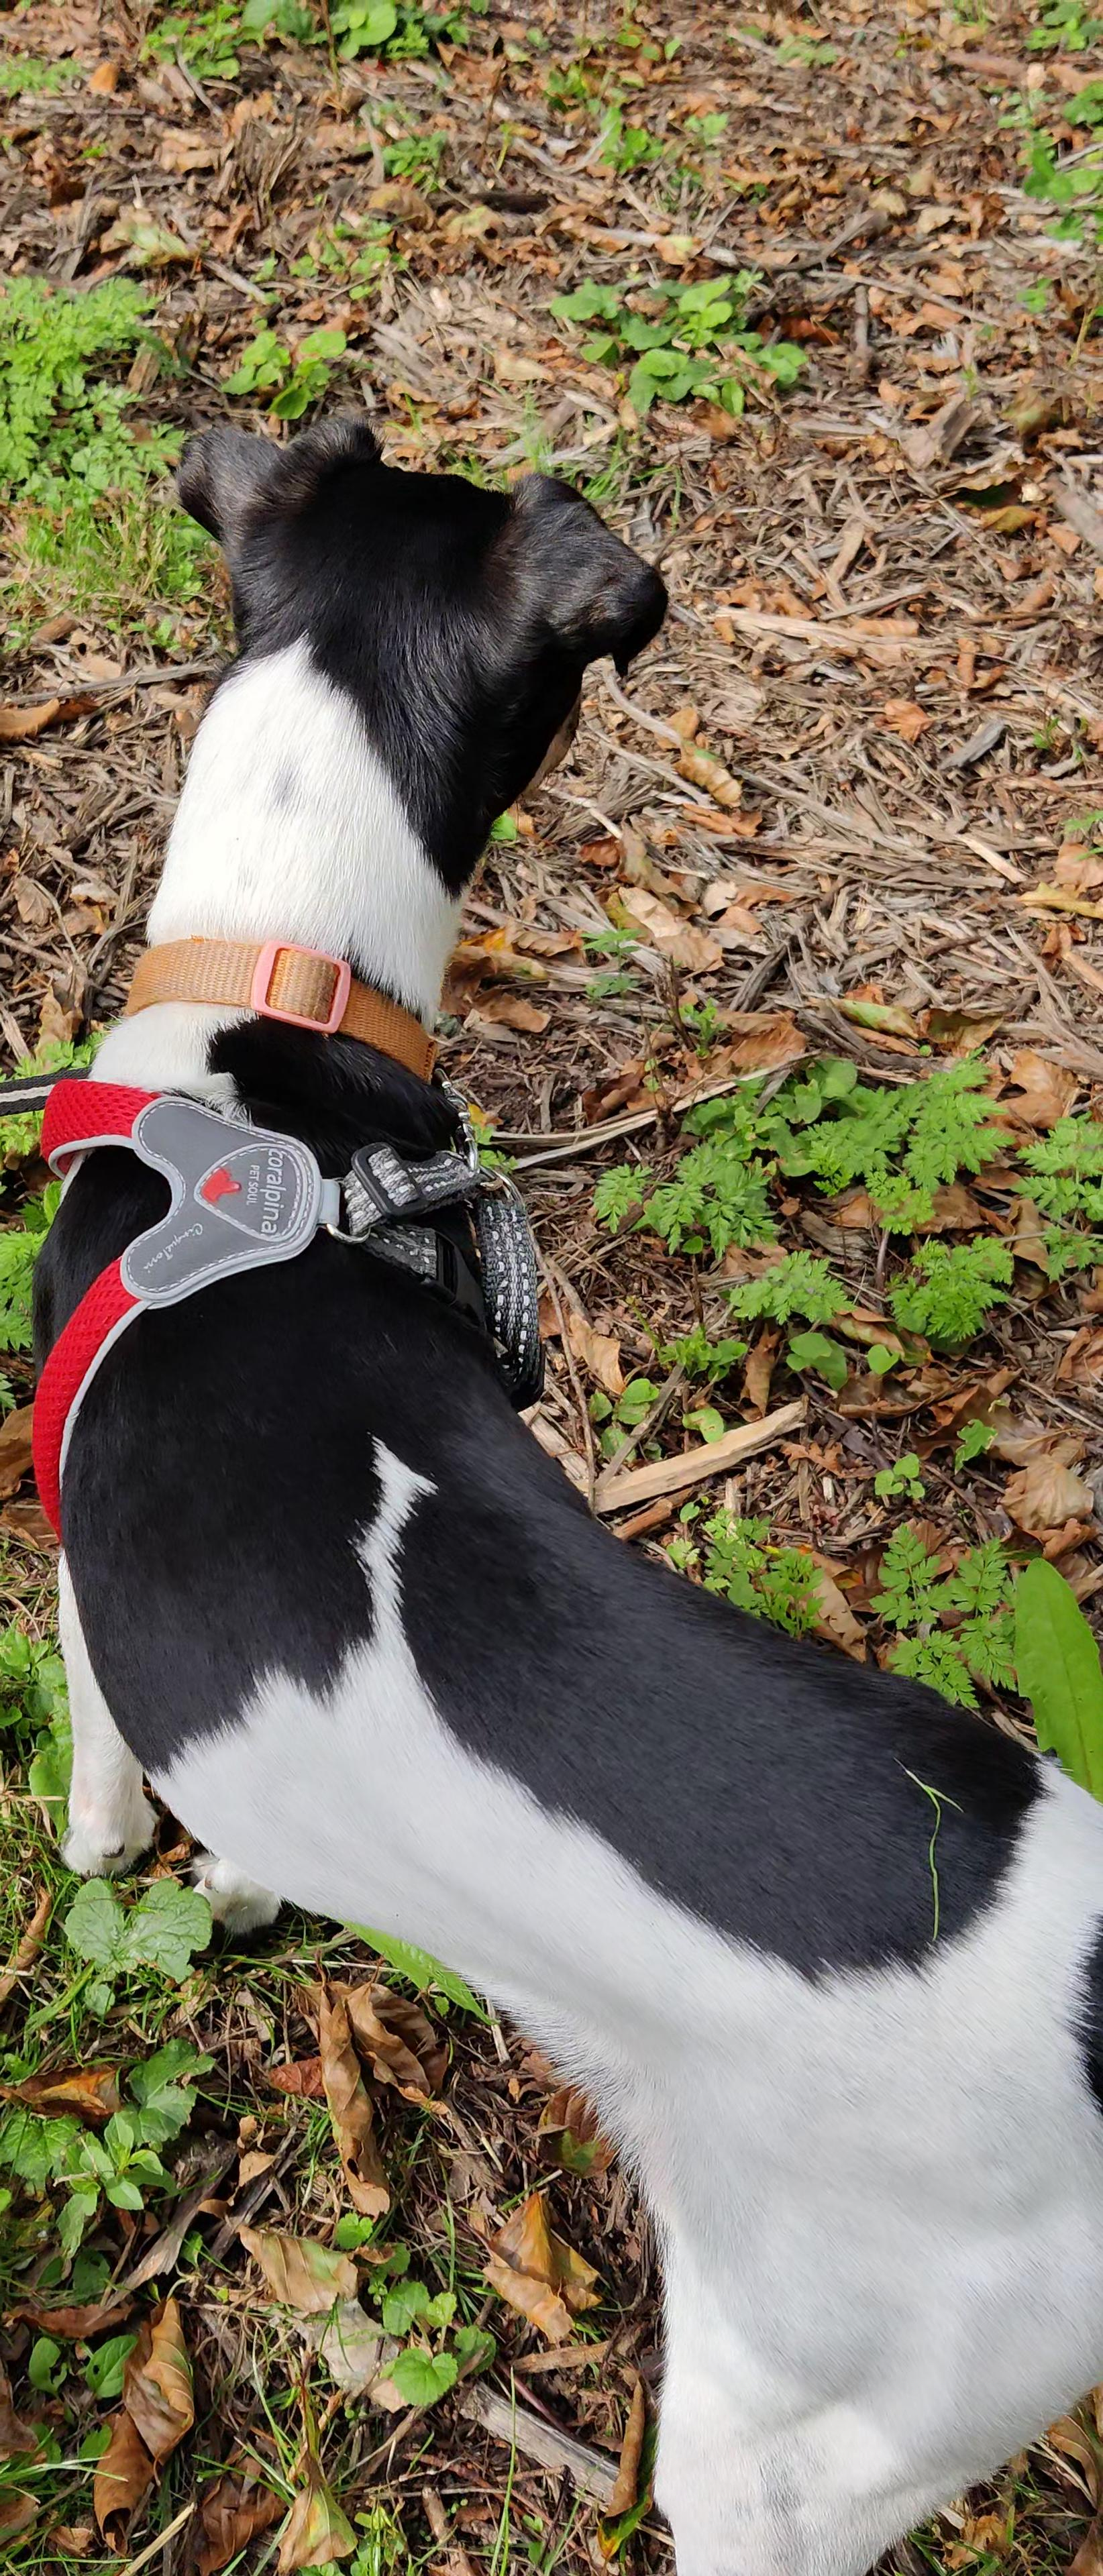Dog: (0, 398, 1103, 2576)
